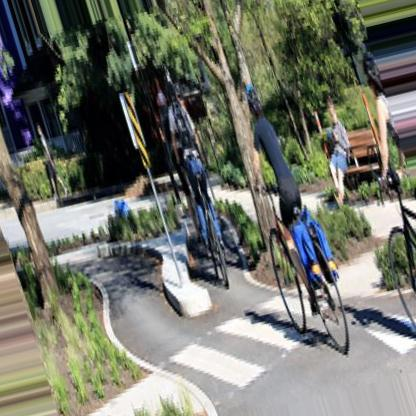with helmet: (244, 83, 266, 124)
